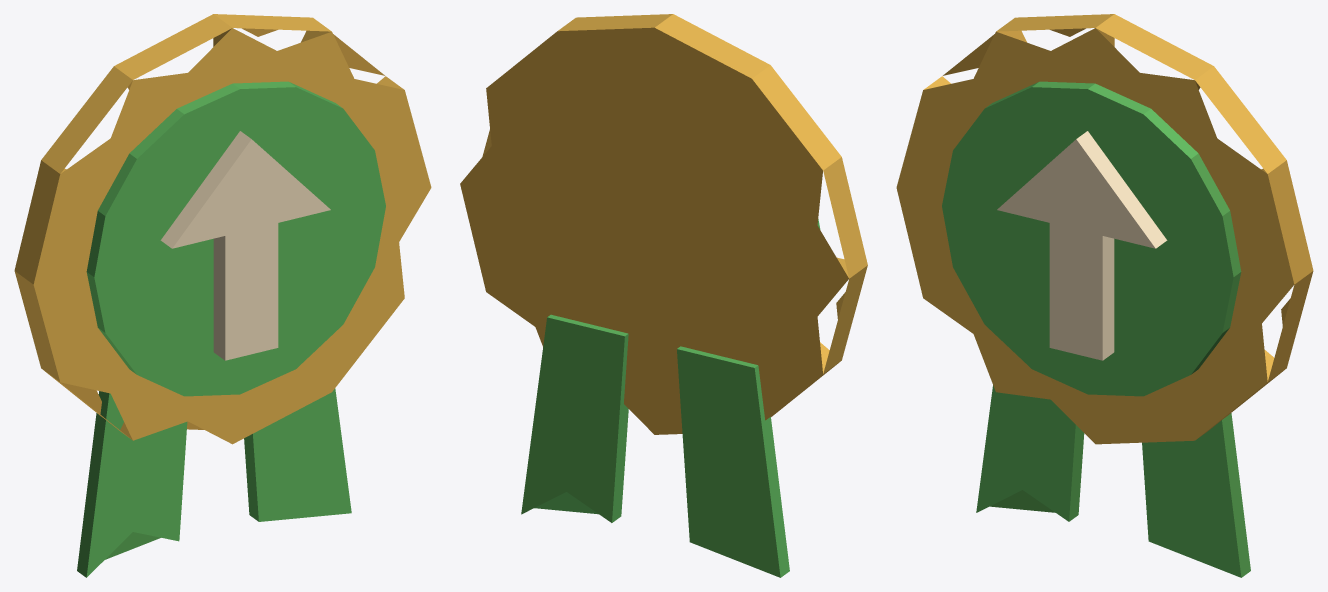
The model's file is badge_most_improved.glb.
3 views of the same model, side by side, from view 1: azimuth 30°, elevation 25°; view 2: azimuth 150°, elevation 25°; view 3: azimuth 330°, elevation 25° (orthographic). The views are drawn at different scales.
Parts seen in each view (by area): view 1: badge, ribbon; view 2: badge, ribbon; view 3: badge, ribbon.
Boxes of the visible parts, x1,y1,x2,y2 form: badge: (14, 14, 431, 444); ribbon: (77, 388, 351, 577); badge: (460, 14, 867, 434); ribbon: (521, 314, 789, 577); badge: (896, 14, 1313, 444); ribbon: (976, 385, 1250, 577).
Size of the model in its own units: 0.06 by 0.076 by 0.011.
